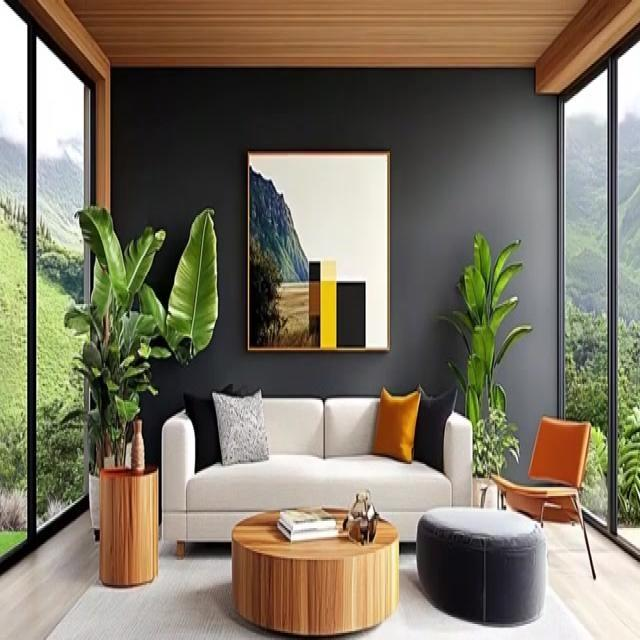obstacle: (160, 391, 473, 558), (230, 504, 399, 636), (489, 414, 596, 580)
